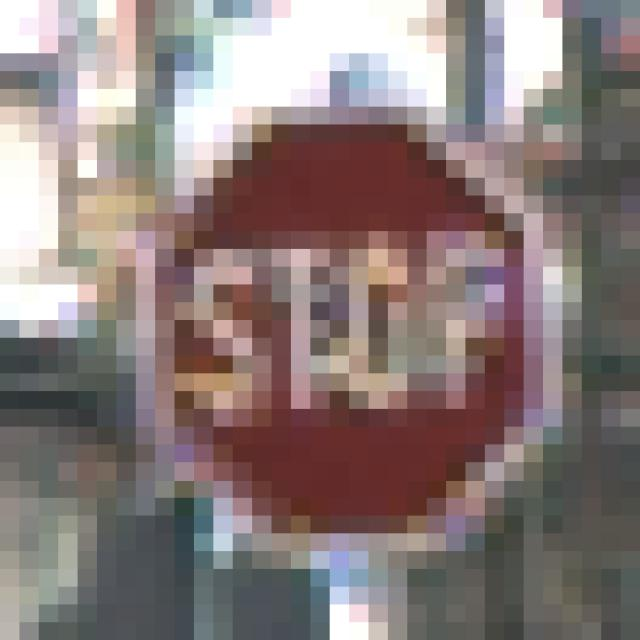STOP: (117, 90, 544, 552)
